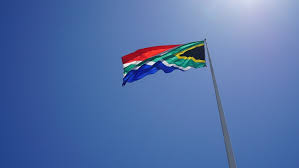Flag: (120, 41, 206, 88)
